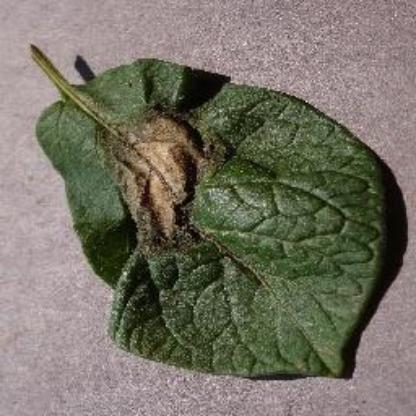Late-Blight: (29, 24, 396, 406)
